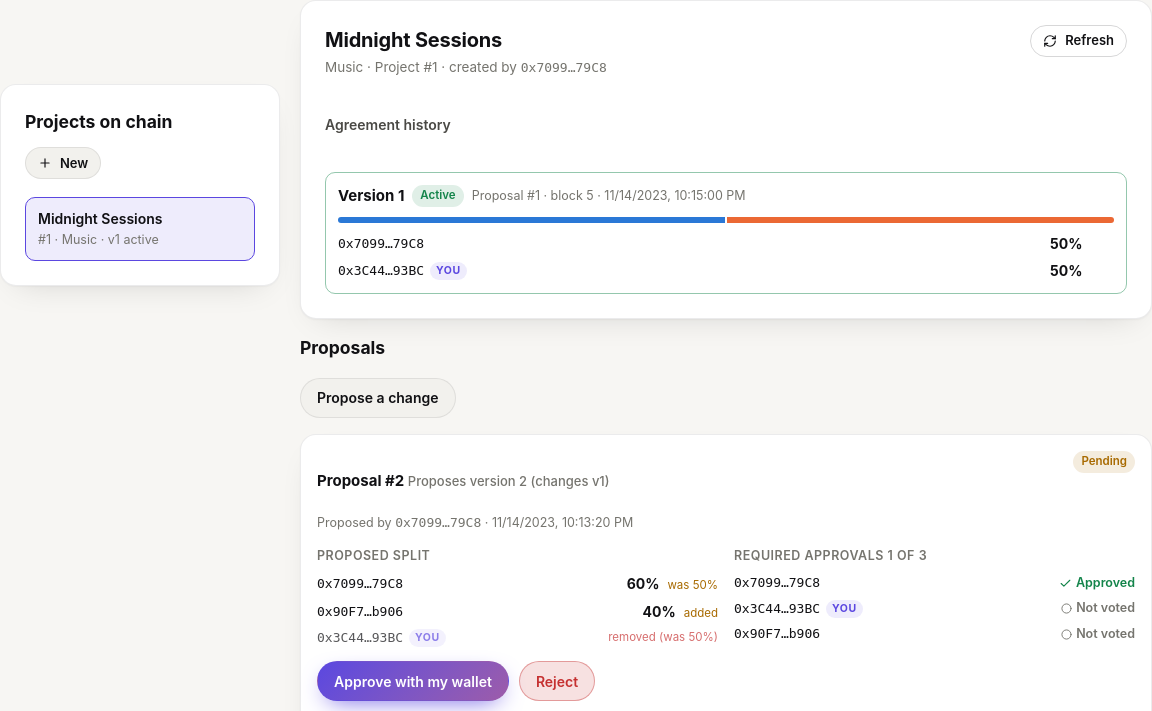
Test case: live dashboard: proposals › reports a mined-but-reverted transaction as failed, not confirmed
This screenshot has width=1152, height=711.
What coordinates should you click on to do the following:
click the button "Approve with my wallet"
I would click on:
 (413, 681)
Its box is [317, 661, 509, 701].
(page scrolled)
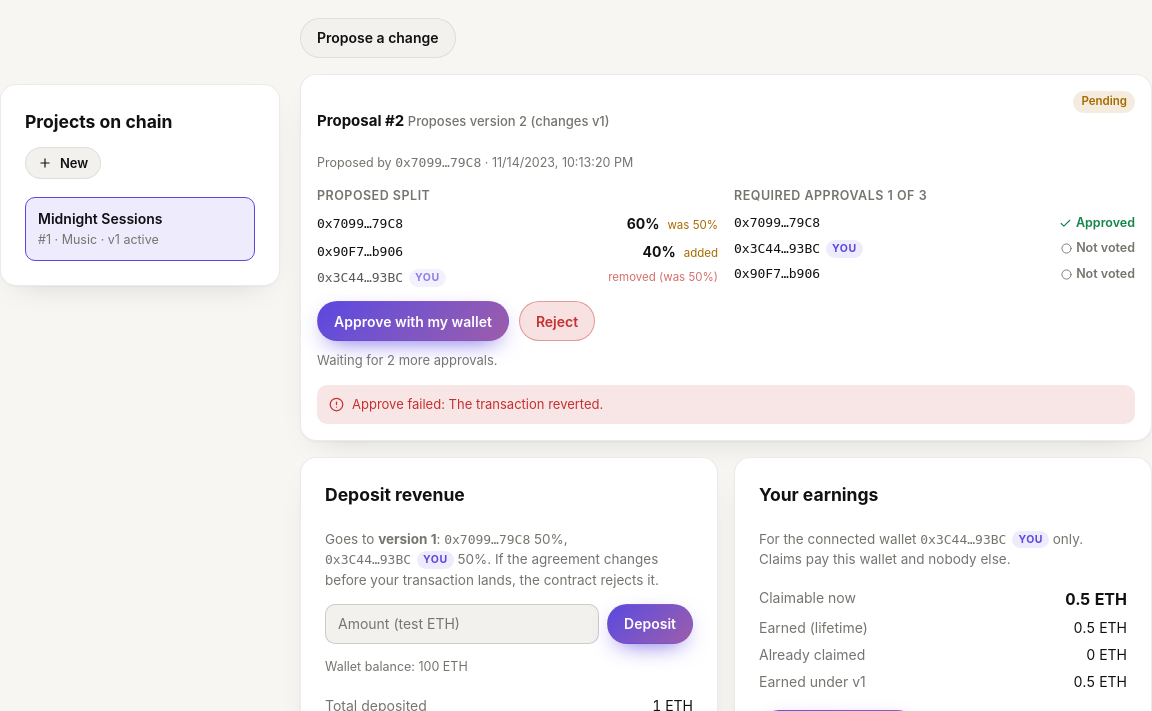
Result: the message shows "reverted" at [449, 396, 603, 412]
